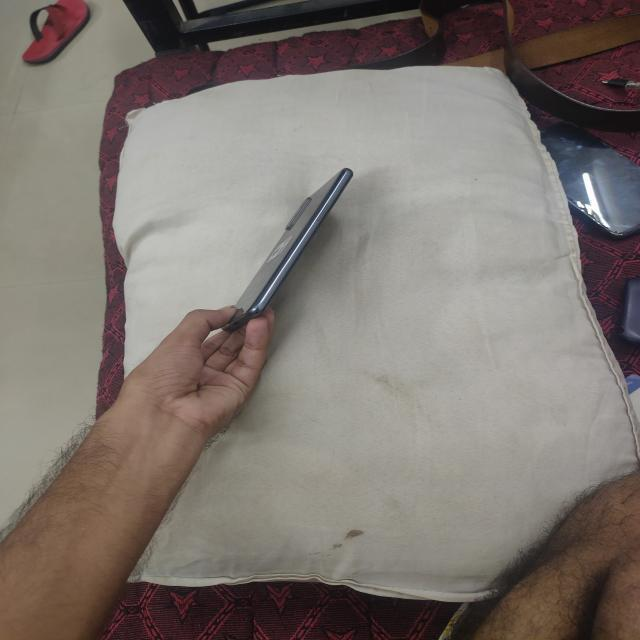Phone: (225, 166, 356, 325)
